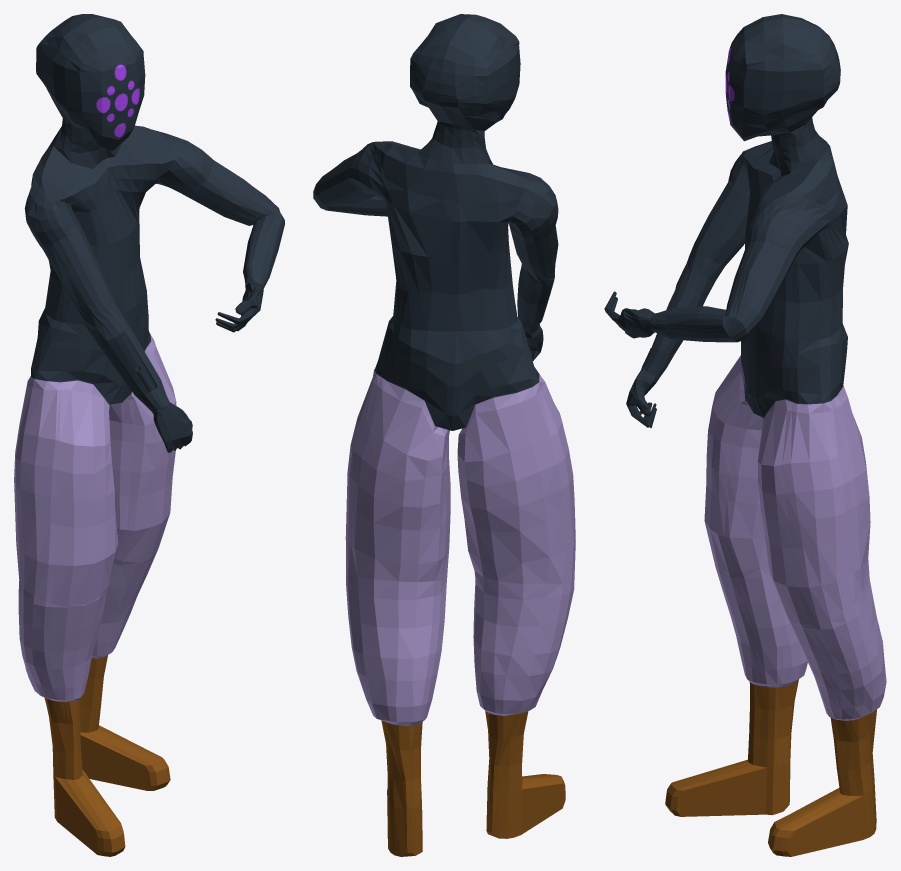
The model's file is Oracle_Reload_000007.obj.
The picture shows the model from 3 angles, left to right: view 1: azimuth 30°, elevation 25°; view 2: azimuth 150°, elevation 25°; view 3: azimuth 270°, elevation 25°; orthographic projection. The views are drawn at different scales.
Parts seen in each view (by area): view 1: Cube; view 2: Cube; view 3: Cube.
Boxes of the visible parts, x1=… form: Cube: x1=14, y1=14, x2=284, y2=856; Cube: x1=313, y1=14, x2=575, y2=856; Cube: x1=604, y1=14, x2=886, y2=856.
Bounding box in the file's own units: 1.32 × 3.94 × 1.24.
